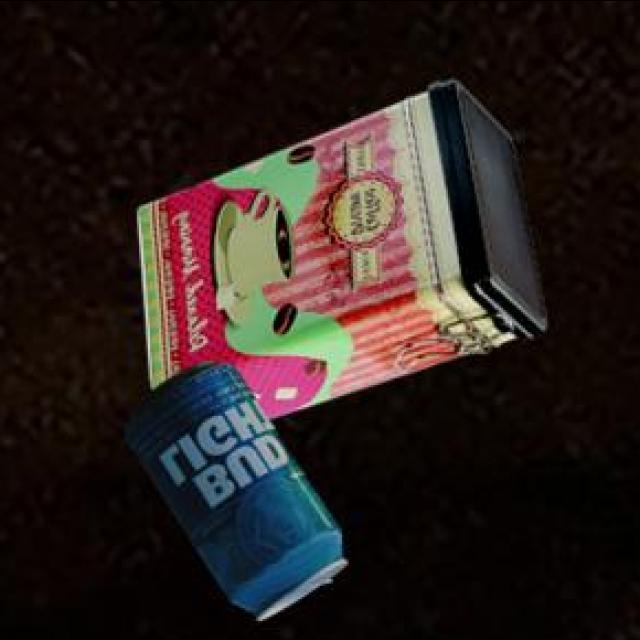logam: (140, 83, 551, 423), (129, 365, 350, 623)
